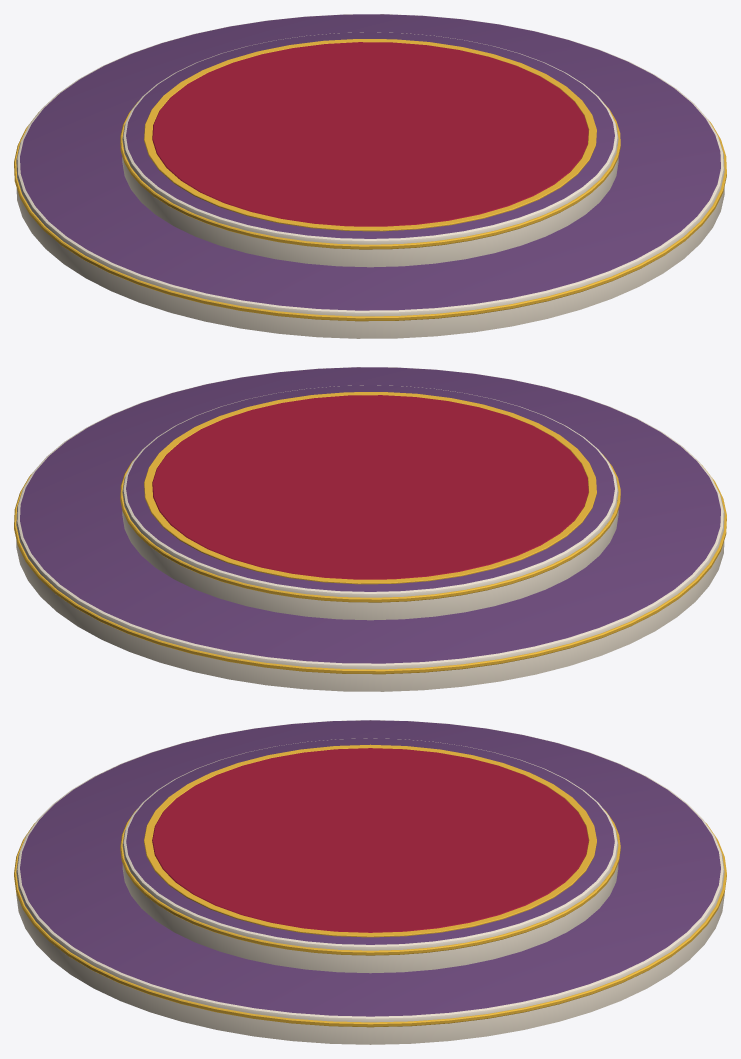
The model's file is crown_dais.glb.
The picture shows the model from 3 angles, top to bottom: view 1: azimuth 30°, elevation 25°; view 2: azimuth 150°, elevation 25°; view 3: azimuth 270°, elevation 25°; orthographic projection.
Parts seen in each view (by area): view 1: crown_dais; view 2: crown_dais; view 3: crown_dais.
Part boxes in pixels (box(x1,y1,x2,y2)): crown_dais: box(14, 14, 726, 338); crown_dais: box(14, 367, 726, 691); crown_dais: box(14, 720, 726, 1044).
Size of the model in its own units: 6.04 by 0.515 by 6.04.
